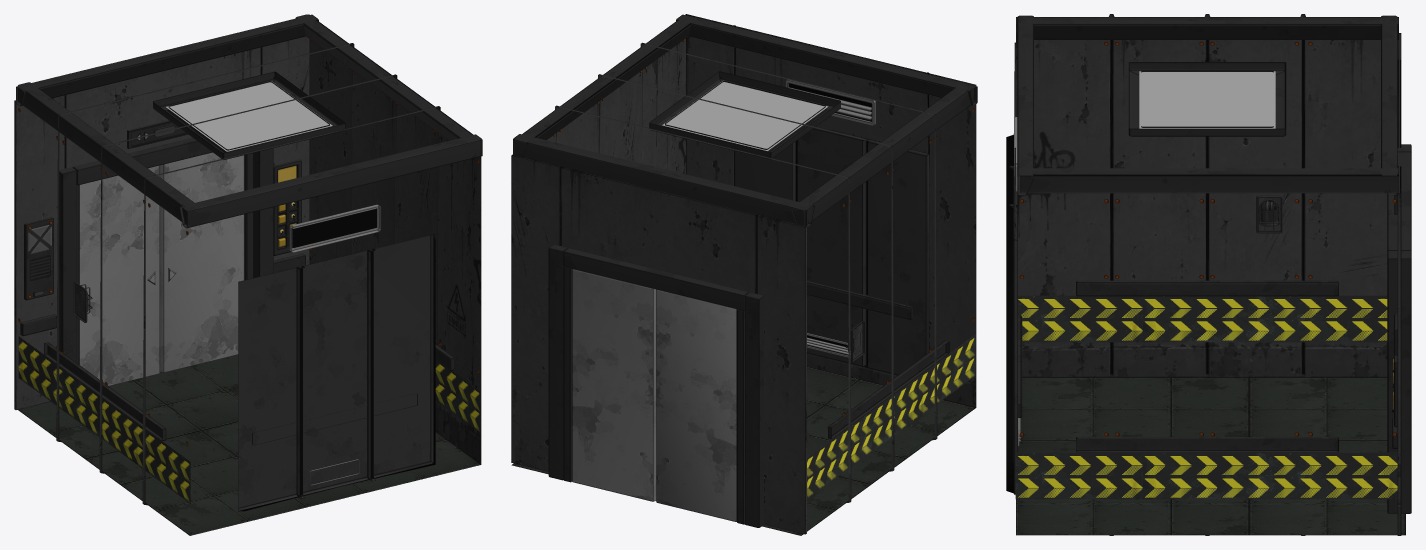
File: Lift_New - Copy.fbx
3 views of the same model, side by side, from view 1: azimuth 30°, elevation 25°; view 2: azimuth 150°, elevation 25°; view 3: azimuth 270°, elevation 25° (orthographic). The views are drawn at different scales.
Parts seen in each view (by area): view 1: Structure, Door_L, Door_R, Top_Bar_FB, Arrow_Strip, Top_Bar_RL, Light_Plane, Light, Back_Coolent_Up, Tech_Left, Bar1, Small_Box (+3 smaller); view 2: Structure, Door_R, Door_L, Top_Bar_FB, Top_Bar_RL, Arrow_Strip, Light_Plane, Light, Bar1, Bar_Back, Back_Coolent_Up, Back_Coolent_Down; view 3: Structure, Arrow_Strip, Top_Bar_RL, Bar1, Light_Plane, Top_Bar_FB, Light, Side_Light_Metal, Screws_Left, Bar_Back.
Boxes of the visible parts, x1,y1,x2,y2 form: Structure: (14,14,481,535); Door_L: (79,165,159,385); Door_R: (160,152,244,372); Top_Bar_FB: (16,14,482,228); Arrow_Strip: (18,336,480,503); Top_Bar_RL: (18,14,472,225); Light_Plane: (166,81,332,151); Light: (153,71,345,159); Back_Coolent_Up: (289,204,381,252); Tech_Left: (24,217,53,300); Bar1: (44,342,453,441); Small_Box: (20,253,305,336); Structure: (511,14,976,535); Door_R: (572,269,655,501); Door_L: (656,289,737,521); Top_Bar_FB: (513,14,977,227); Top_Bar_RL: (514,17,974,226); Arrow_Strip: (807,334,975,498); Light_Plane: (662,81,828,150); Light: (649,71,840,159); Bar1: (828,340,949,439); Bar_Back: (807,281,912,319); Back_Coolent_Up: (785,79,875,125); Back_Coolent_Down: (807,333,850,357); Structure: (1006,14,1411,535); Arrow_Strip: (1015,295,1397,499); Top_Bar_RL: (1020,17,1398,193); Bar1: (1076,280,1338,452); Light_Plane: (1139,71,1275,128); Top_Bar_FB: (1017,15,1397,195); Light: (1128,62,1286,136); Side_Light_Metal: (1256,195,1282,233); Screws_Left: (1019,41,1397,436); Bar_Back: (1018,315,1022,417).
Bounding box in the file's own units: 8.84 × 9.27 × 9.37.
Materials: 3 (2 with a texture image).
